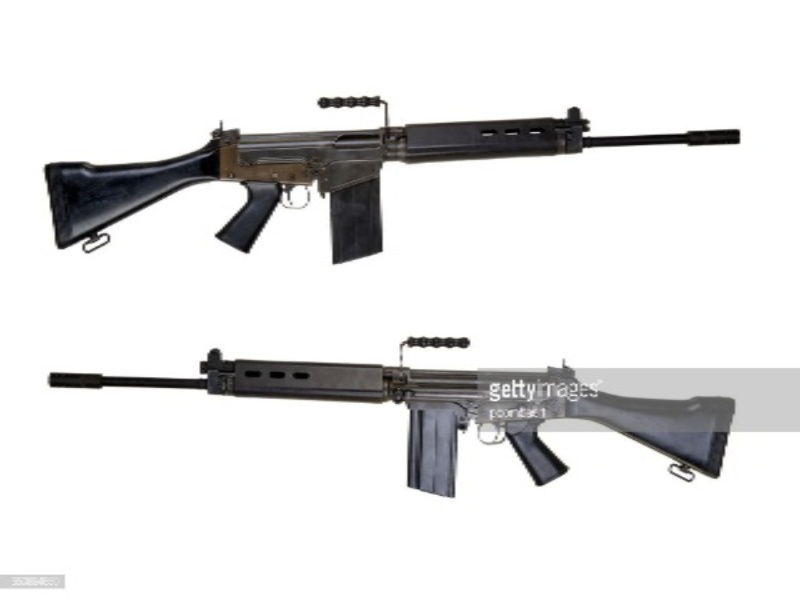weapon: (42, 95, 741, 265), (48, 337, 735, 501)
